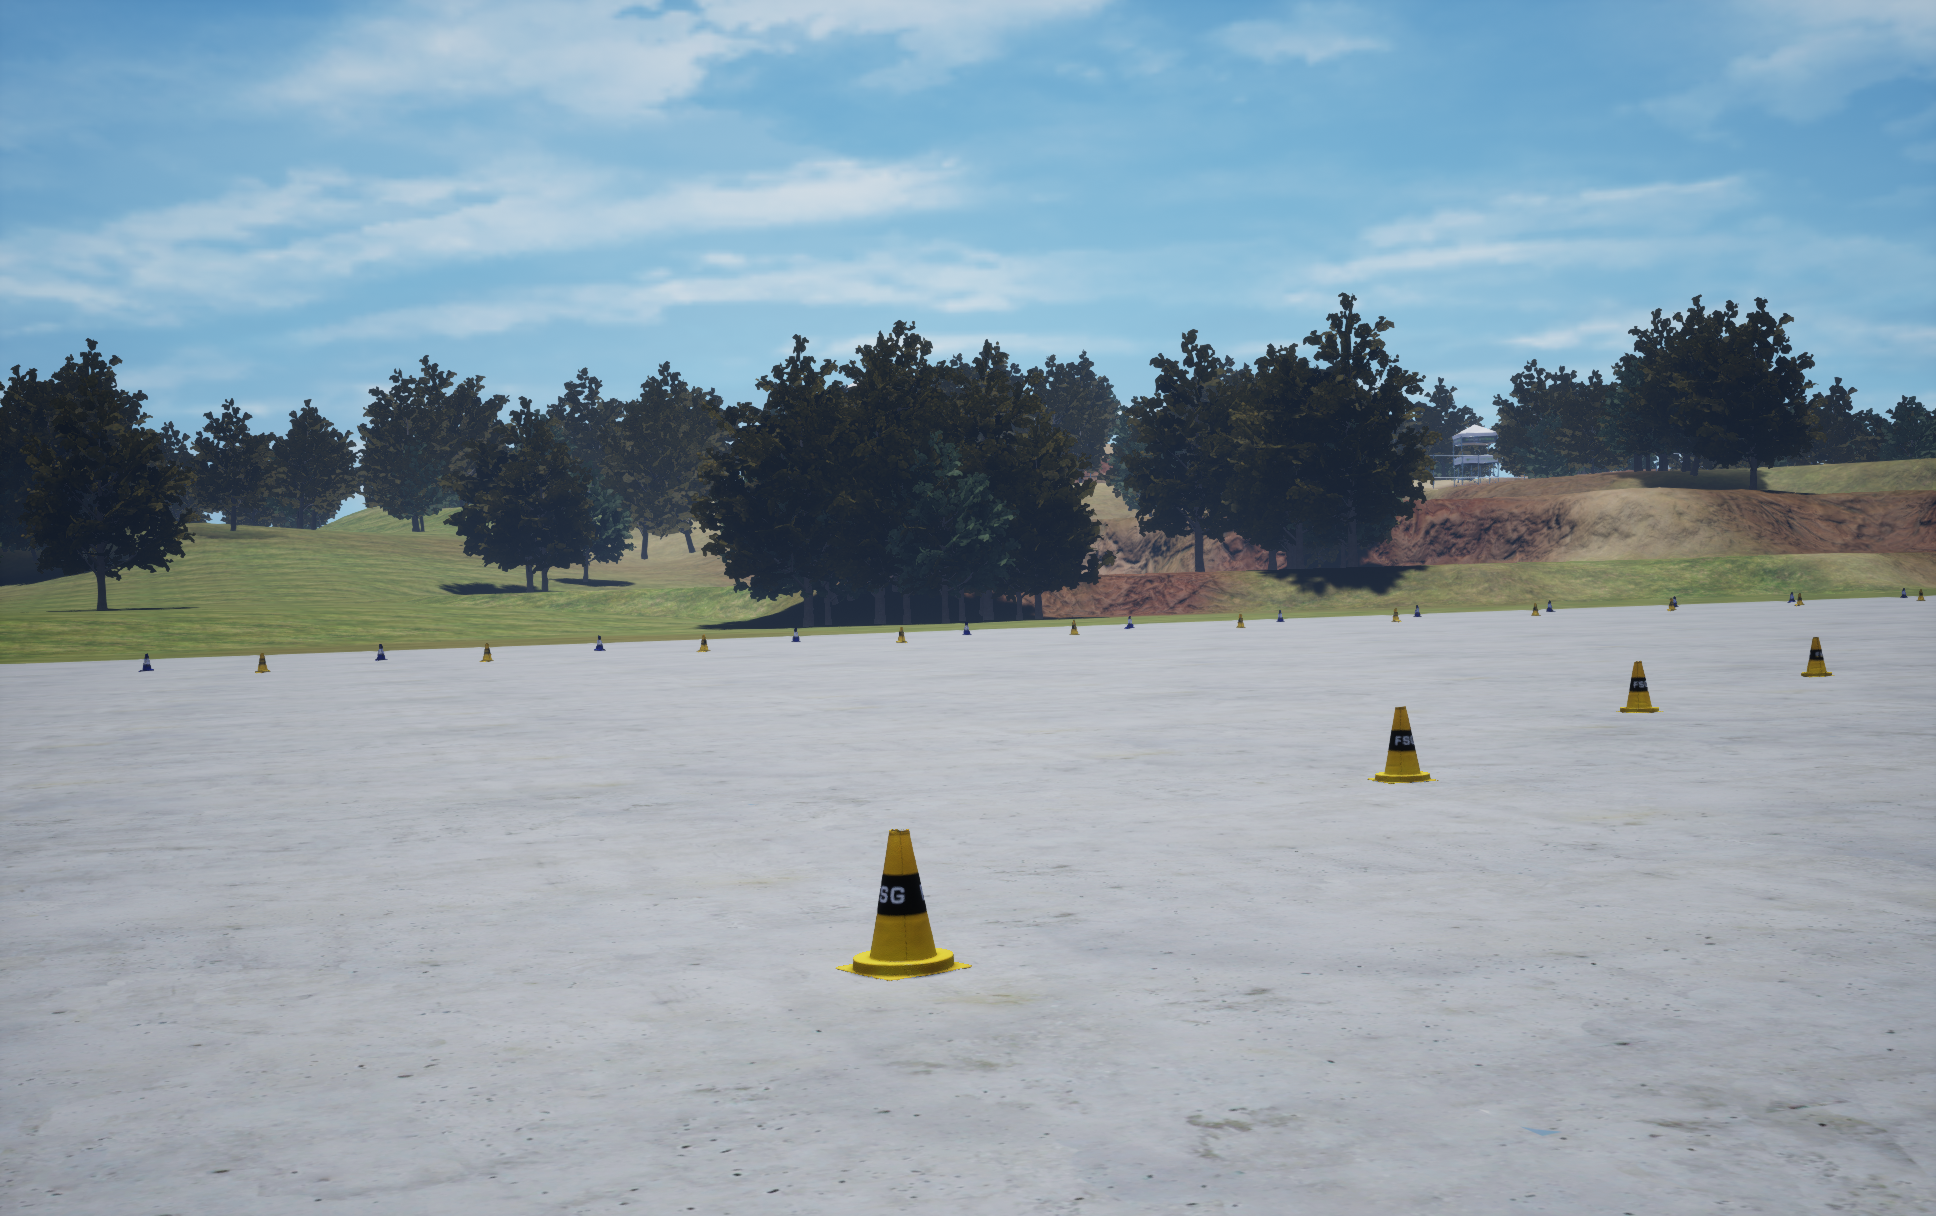blue: (835, 829, 971, 981), (1367, 706, 1439, 783), (1617, 661, 1663, 712), (1802, 637, 1834, 677), (255, 653, 270, 672)
